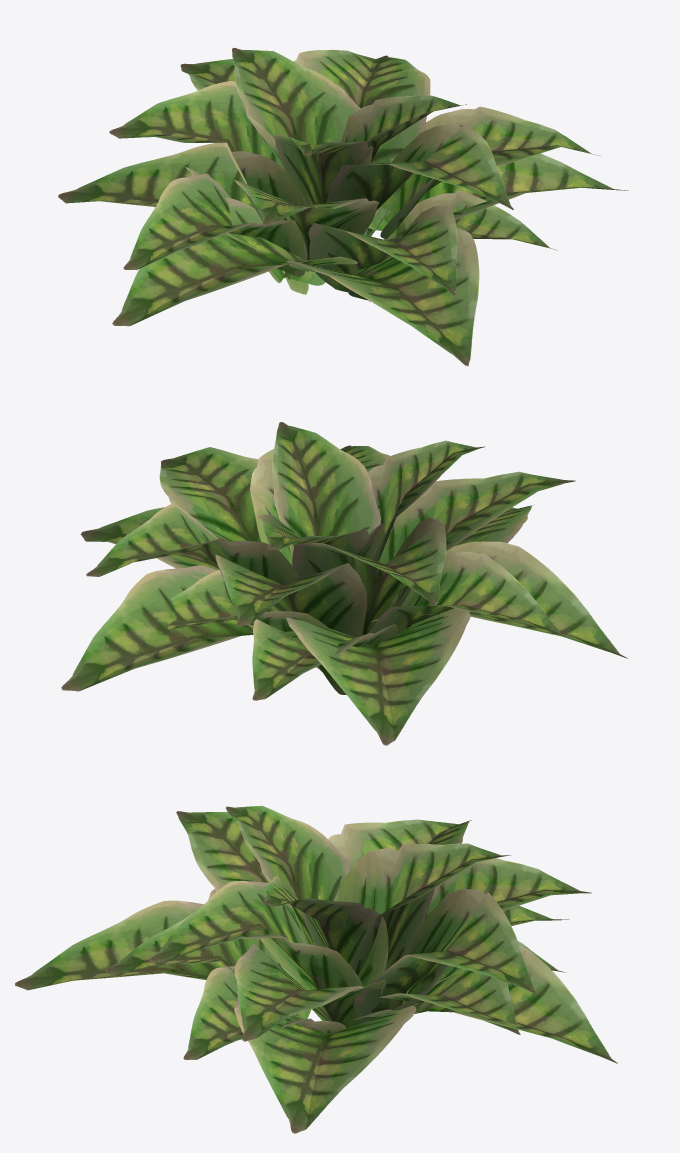
Rendered from TaroPlant.fbx.
3 views of the same model, one above another, from view 1: azimuth 30°, elevation 25°; view 2: azimuth 150°, elevation 25°; view 3: azimuth 270°, elevation 25° (orthographic). The views are drawn at different scales.
Visible parts, largest first — view 1: TaroPlant1; view 2: TaroPlant1; view 3: TaroPlant1.
Boxes of the visible parts, <box> form: TaroPlant1: <box>58,48,628,366</box>; TaroPlant1: <box>61,422,627,745</box>; TaroPlant1: <box>15,805,617,1133</box>.
Bounding box in the file's own units: 0.6383 × 0.2826 × 0.6505.
Materials: 1 (1 with a texture image).
